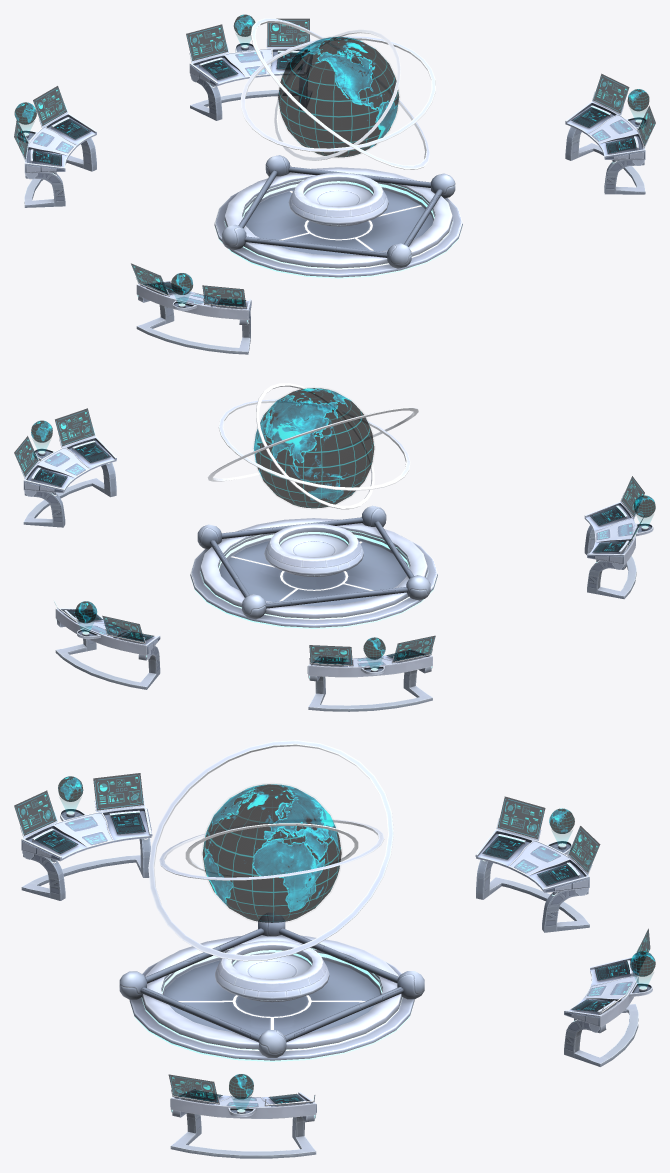
The model's file is obj_globe.gltf.
3 renders of one model, top to bottom at view 1: azimuth 30°, elevation 25°; view 2: azimuth 150°, elevation 25°; view 3: azimuth 270°, elevation 25°, orthographic. The views are drawn at different scales.
Visible parts, largest first — view 1: obj_globe; view 2: obj_globe; view 3: obj_globe.
Boxes of the visible parts, x1,y1,x2,y2 form: obj_globe: (14,14,655,354); obj_globe: (14,383,655,711); obj_globe: (14,740,655,1158).
Size of what is drawn, in the model's own units: 14.5 by 4.75 by 12.49.
Materials: 8 (7 with a texture image).
